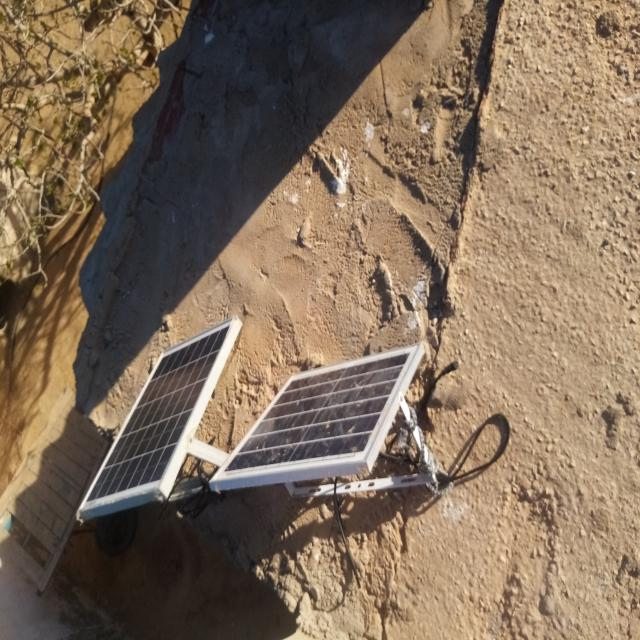faulty: (211, 345, 420, 481)
no faulty: (79, 317, 234, 509)
